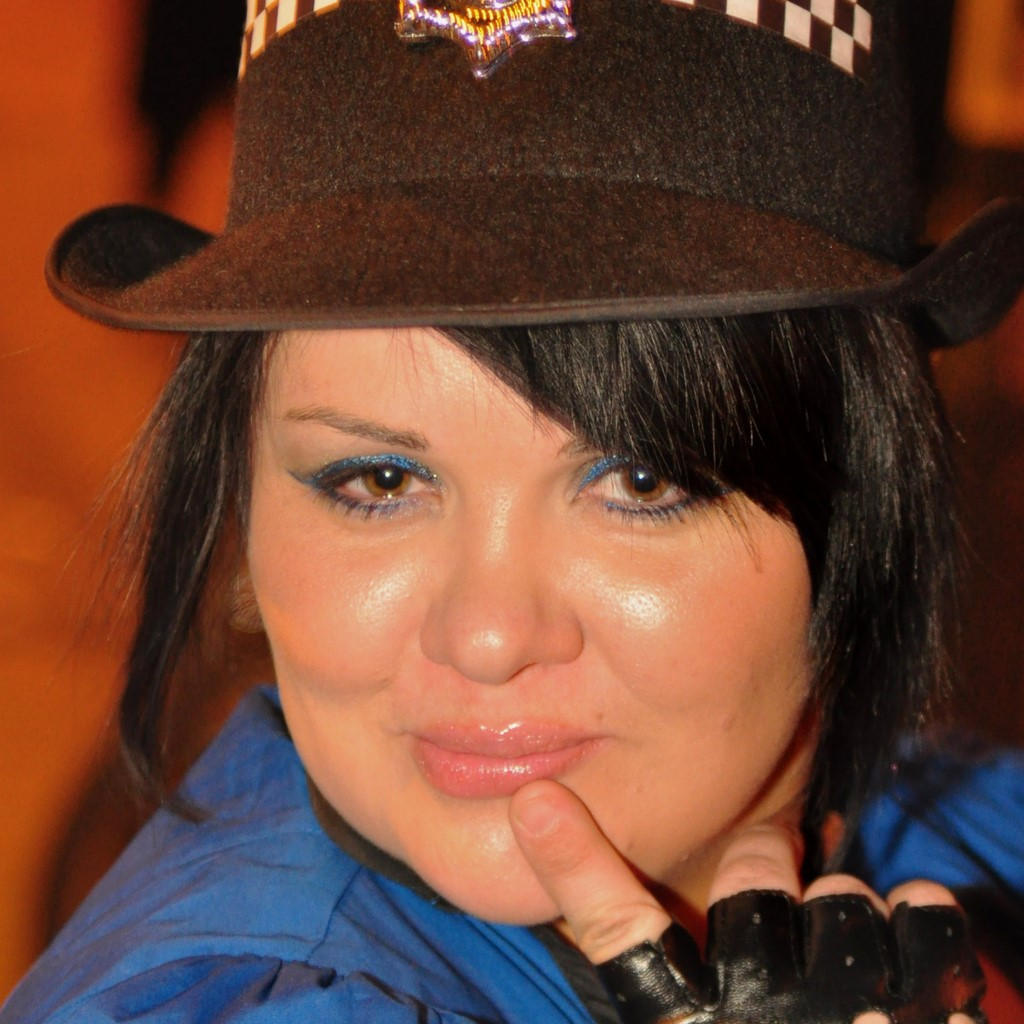sin_mascara: (228, 225, 840, 934)
